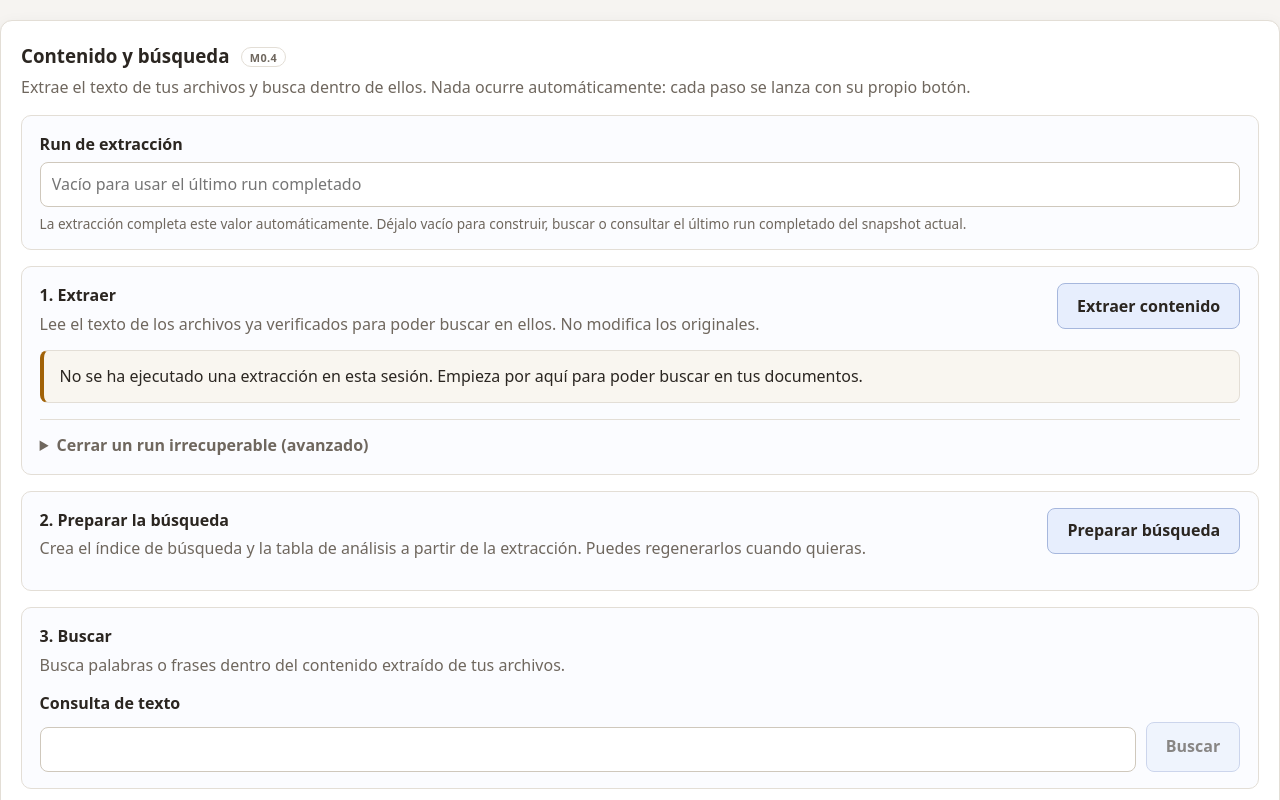
Test case: ContentIntelligenceView › renders search evidence as plain text
Type "contrato" into the search field labelled "Consulta de texto" at (588, 749), box 40,727 -> 1136,772
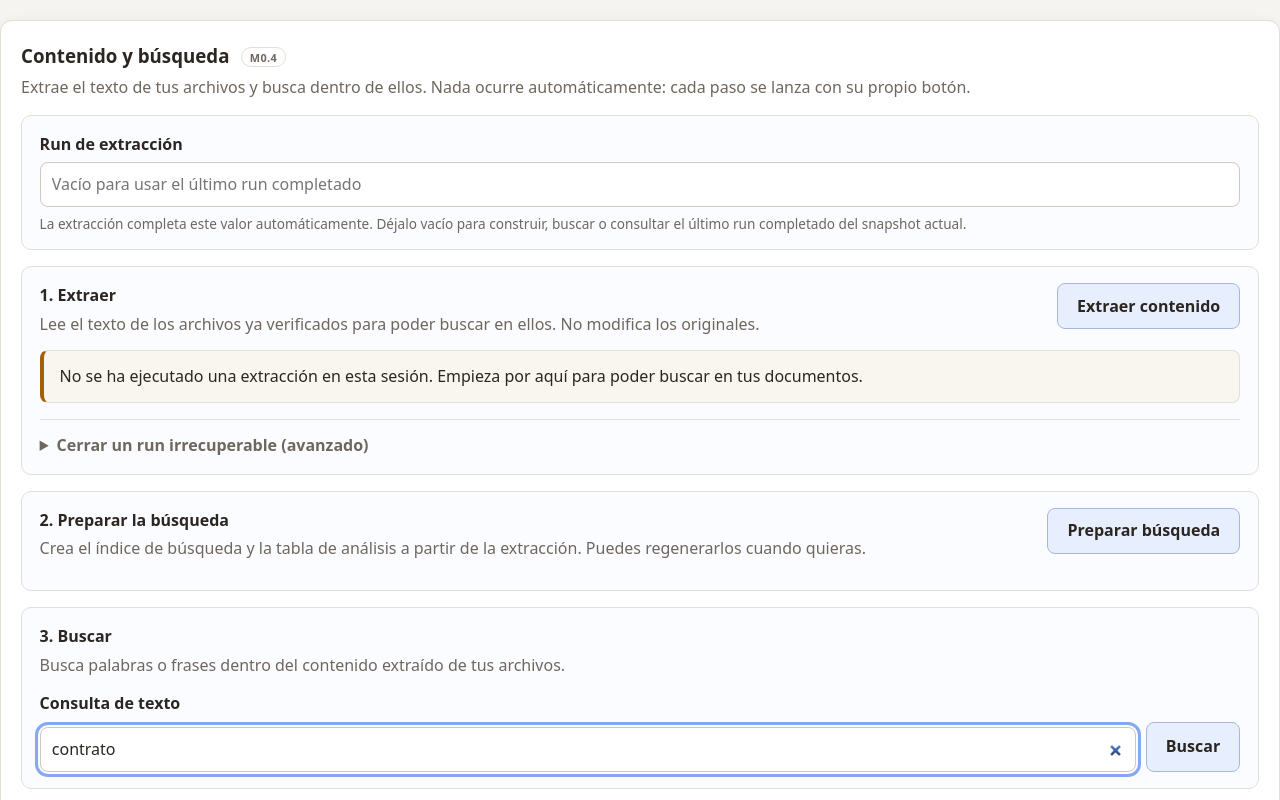
Click the button "Buscar" at (1193, 746), box 1146,722 -> 1240,772
(page scrolled)
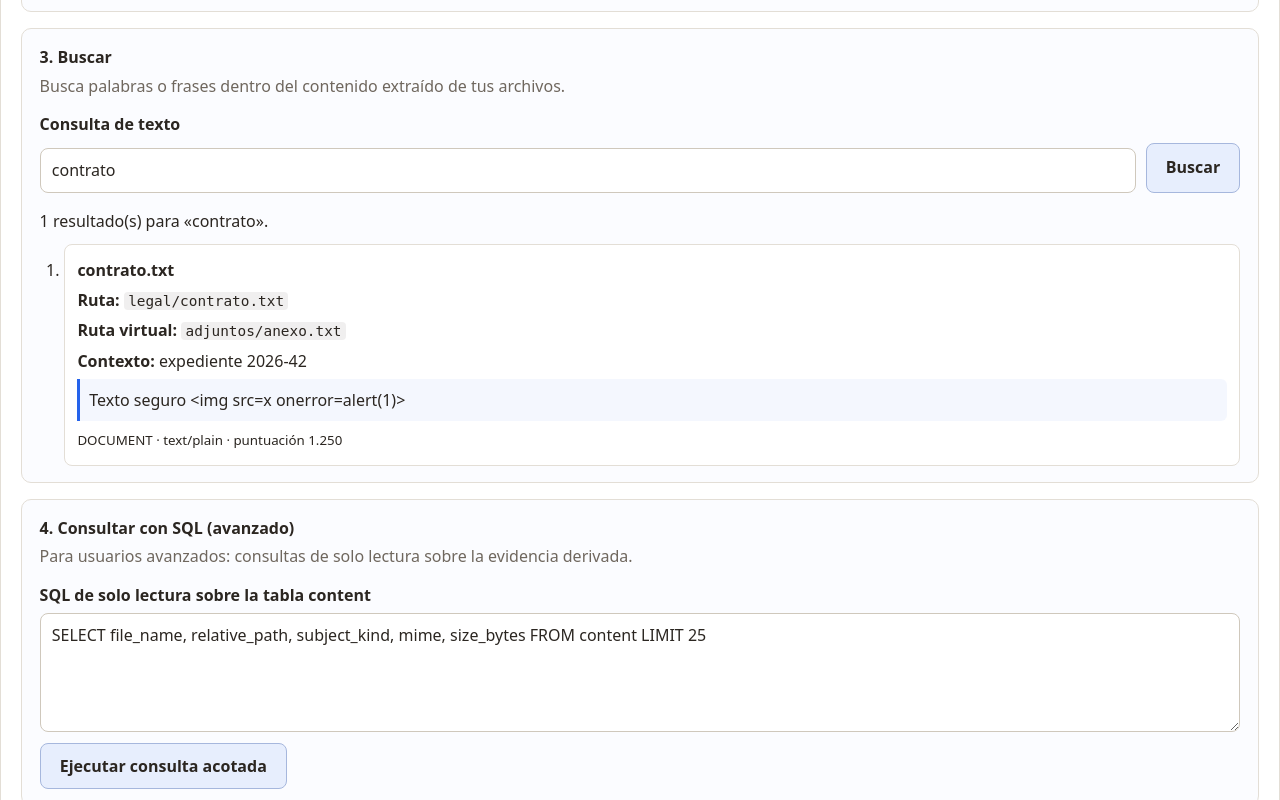
Expected: the text "legal/contrato.txt" is shown, 124,292 -> 288,310
Expected: the text "expediente 2026-42" is shown, 159,350 -> 307,372
Expected: the text "Texto seguro <img src=x onerror=alert(1)>" is shown, 77,379 -> 1227,422
